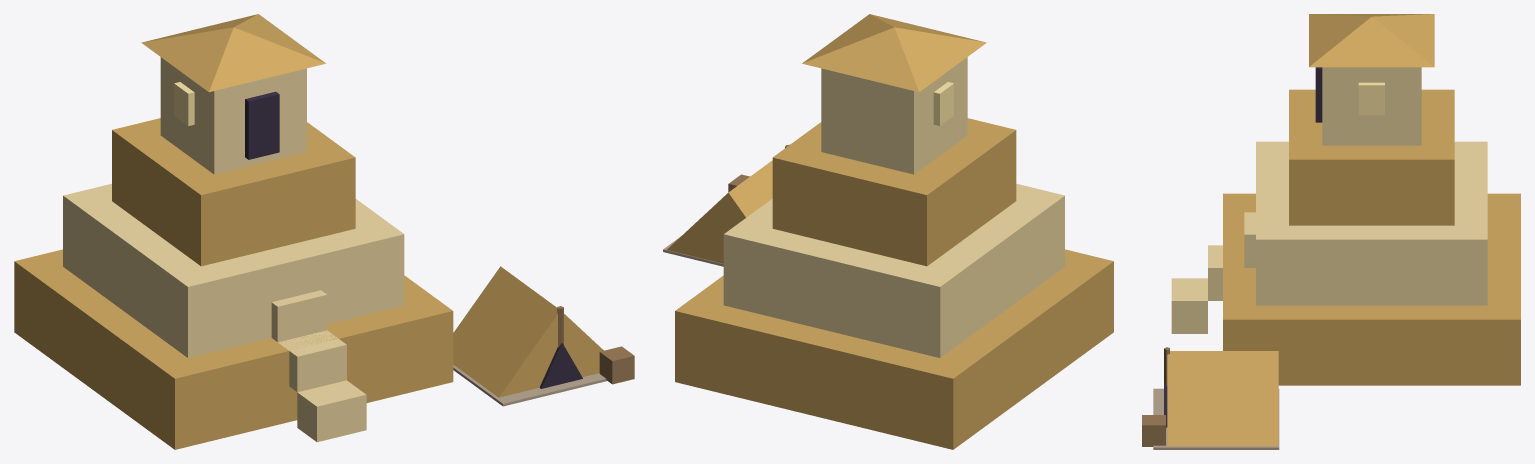
Rendered from sand-landmark-s2c.glb.
The picture shows the model from 3 angles, left to right: view 1: azimuth 30°, elevation 25°; view 2: azimuth 150°, elevation 25°; view 3: azimuth 270°, elevation 25°; orthographic projection. The views are drawn at different scales.
Parts seen in each view (by area): view 1: sand-landmark-s2c; view 2: sand-landmark-s2c; view 3: sand-landmark-s2c.
Part boxes in pixels (bbox=[...]): sand-landmark-s2c: bbox=[14, 14, 634, 449]; sand-landmark-s2c: bbox=[663, 14, 1113, 449]; sand-landmark-s2c: bbox=[1142, 14, 1520, 449].
Size of the model in its own units: 1.36 by 1.02 by 1.14.
